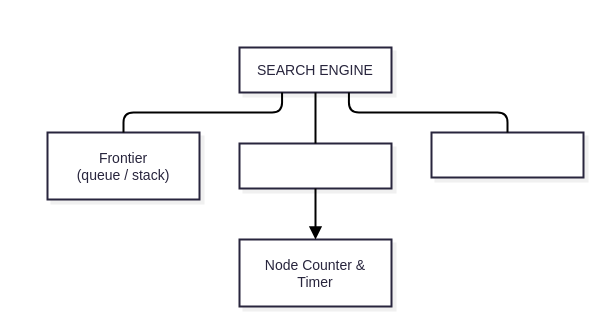
Some shapes in this 605 by 328 pixel diagram are drawn without their labels. The shapes that lost their labels are listed below. From the top down, each one's centre as x and y in pixels, then its label:
At (x=317, y=167): "Visited Set".
At (x=509, y=156): "Goal Test".
